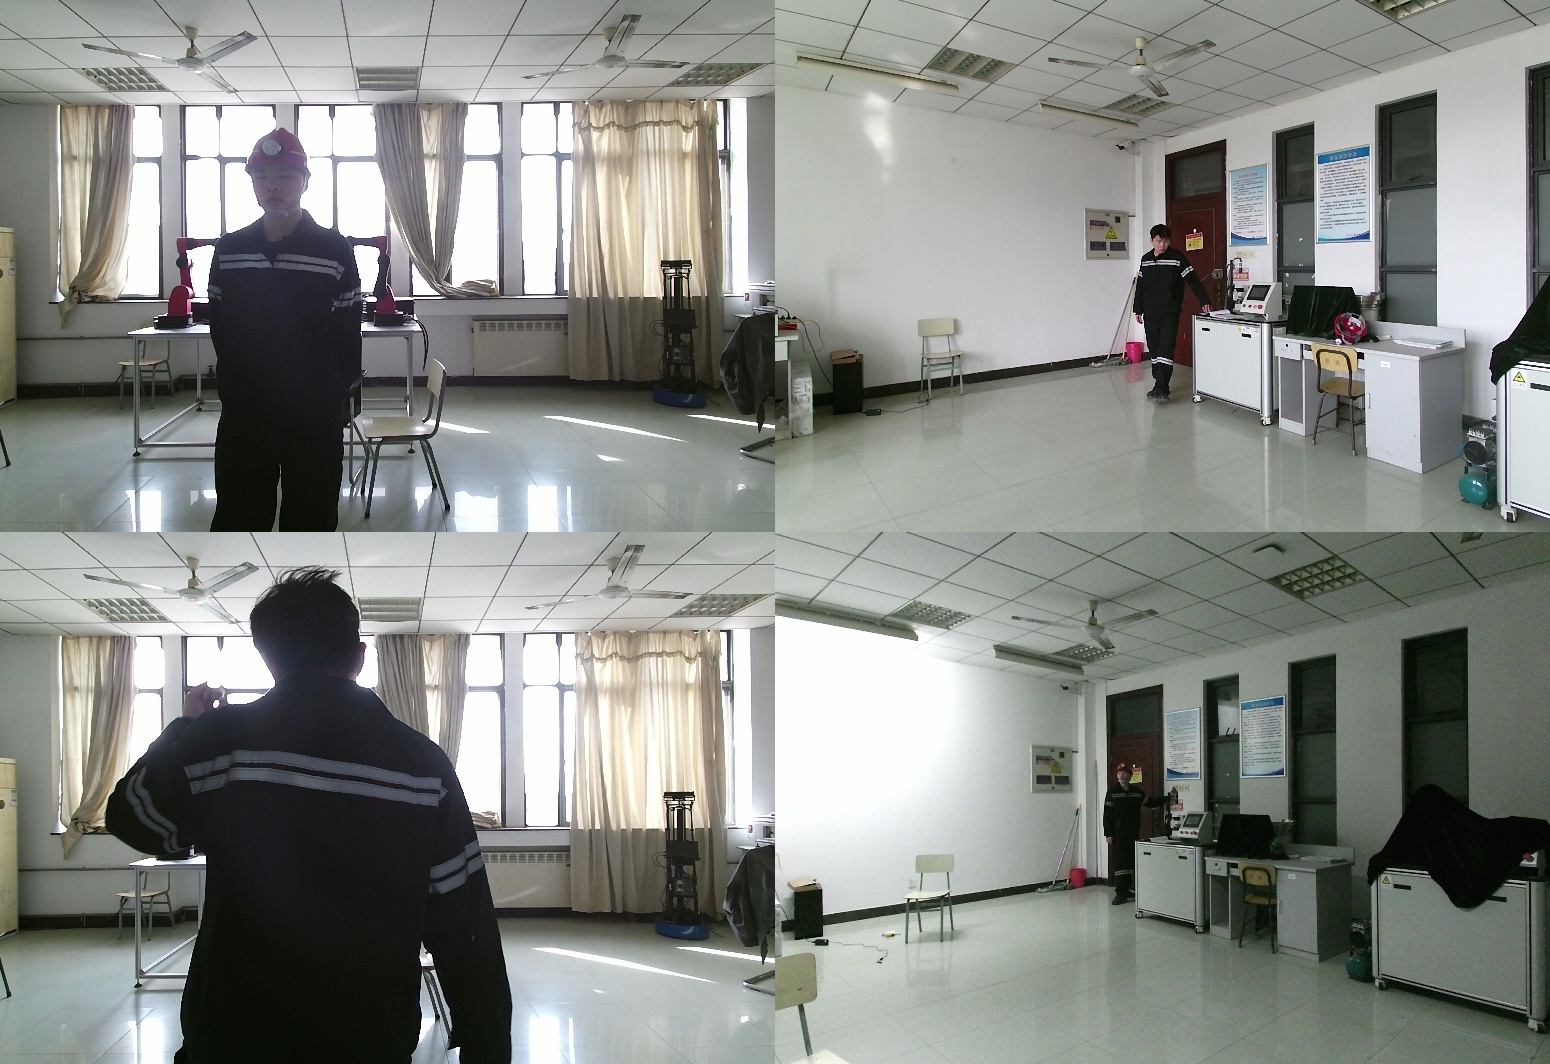person: (112, 573, 511, 1064), (206, 128, 359, 532), (1137, 226, 1213, 408), (1097, 761, 1151, 909)
